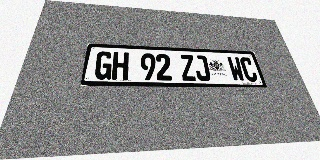2: (156, 54, 172, 81)
9: (141, 53, 156, 80)
C: (239, 57, 259, 82)
G: (94, 51, 113, 80)
H: (111, 52, 129, 80)
J: (193, 55, 211, 81)
W: (227, 57, 246, 82)
Z: (179, 55, 197, 81)
